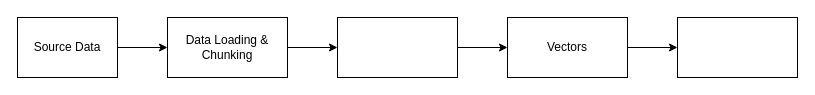
Some shapes in this 815 by 95 pixel diagram are drawn without their labels. Here are the shapes that lost their labels. From the top down, the centre of each, then its label:
At (x=397, y=47): "Embedding Models".
At (x=737, y=47): "Database".
